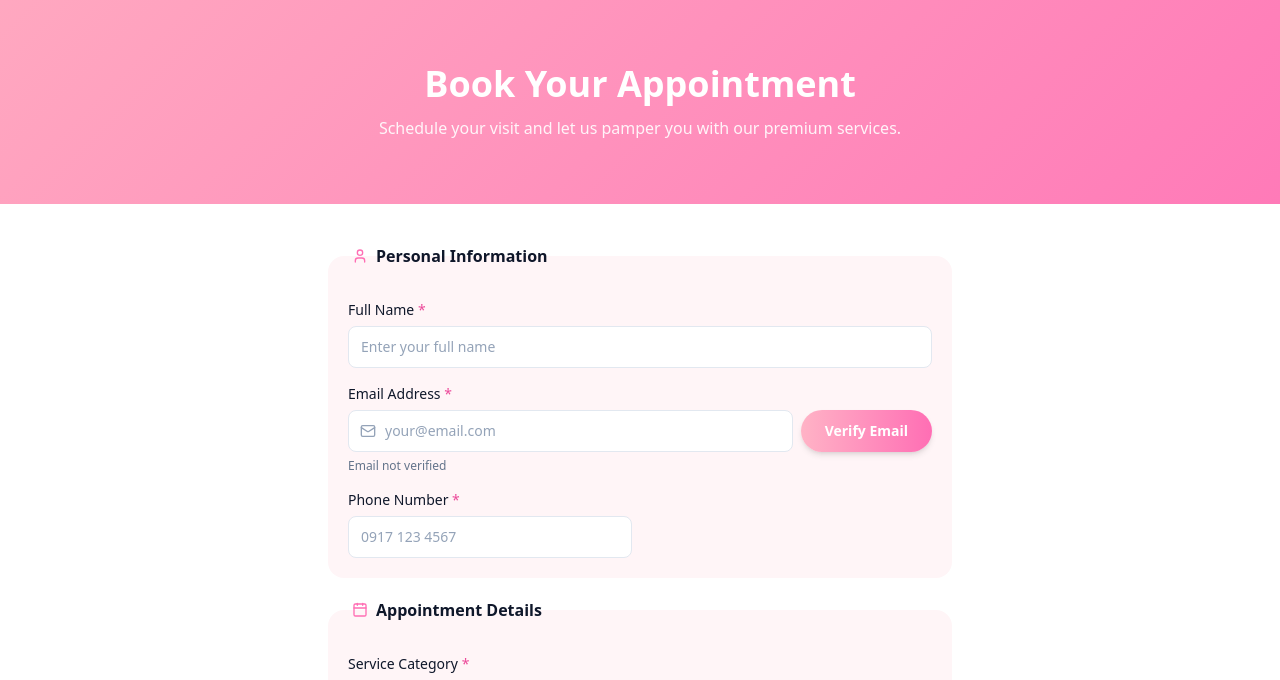
requesting and entering the code › the code box only accepts digits and at most six of them
Step 1. Type "jane@example.com" into the field labelled "Email Address *" → (570, 431), box [348, 410, 793, 452]
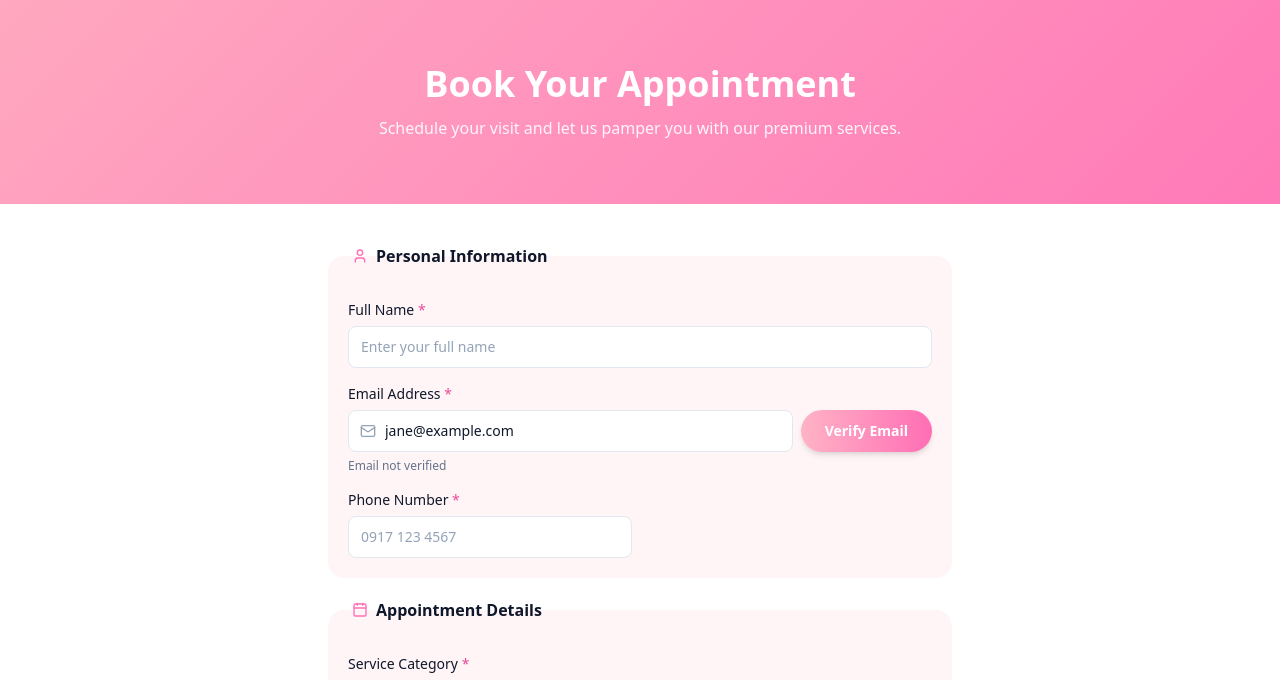
Step 2. Click the button "Verify Email" → (866, 431), box [801, 410, 932, 452]
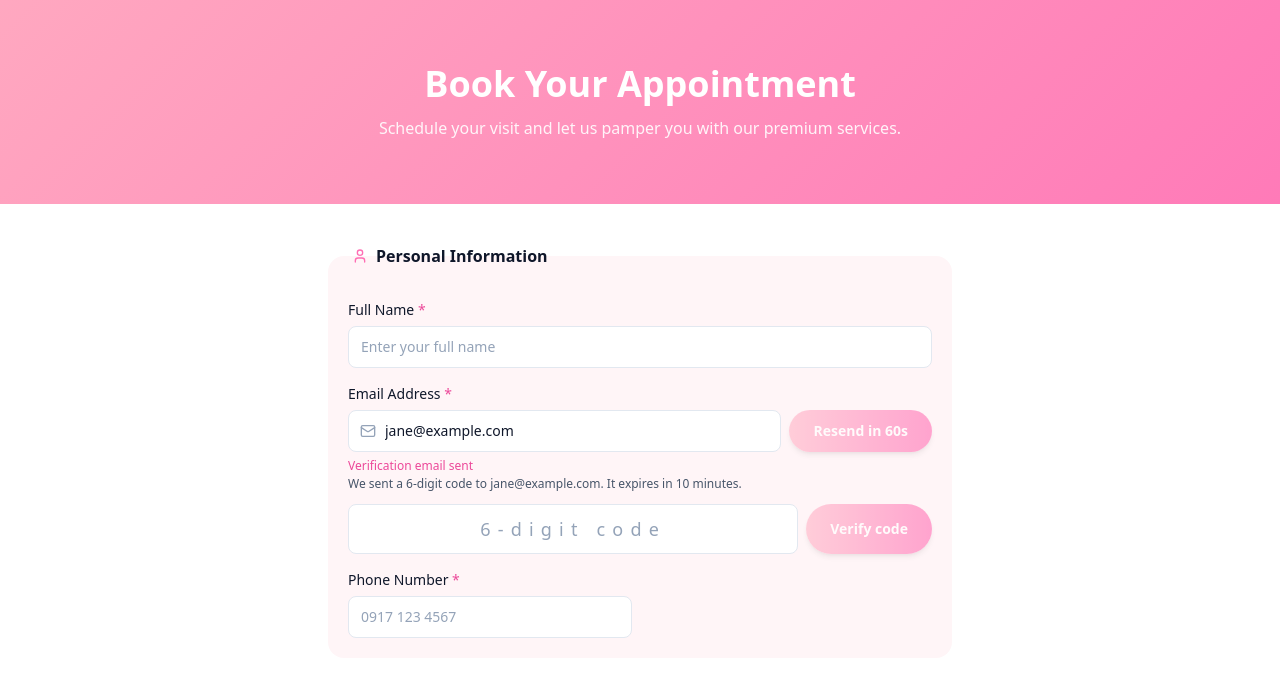
Step 3. Type "12ab34567890" into the field named "6-digit verification code" → (573, 529), box [348, 504, 798, 554]
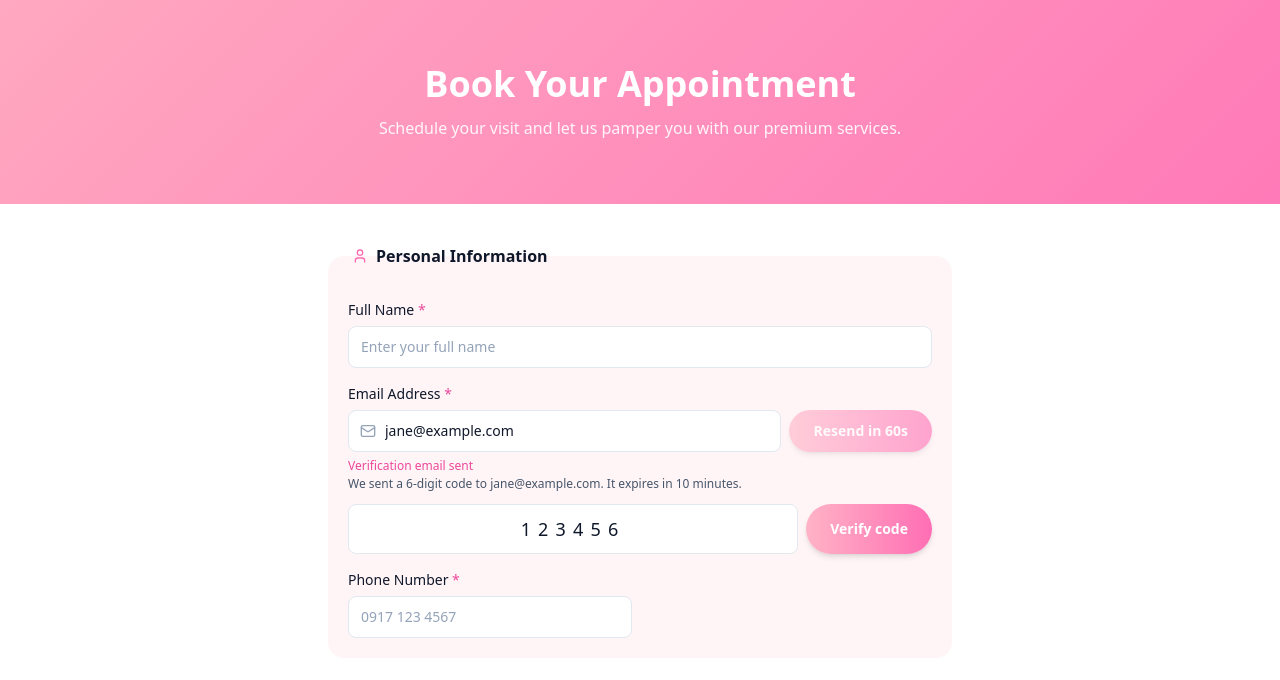
Now the field named "6-digit verification code" holds "123456"
Step 4. Replace the text in the field named "6-digit verification code" with "12" → (573, 529), box [348, 504, 798, 554]
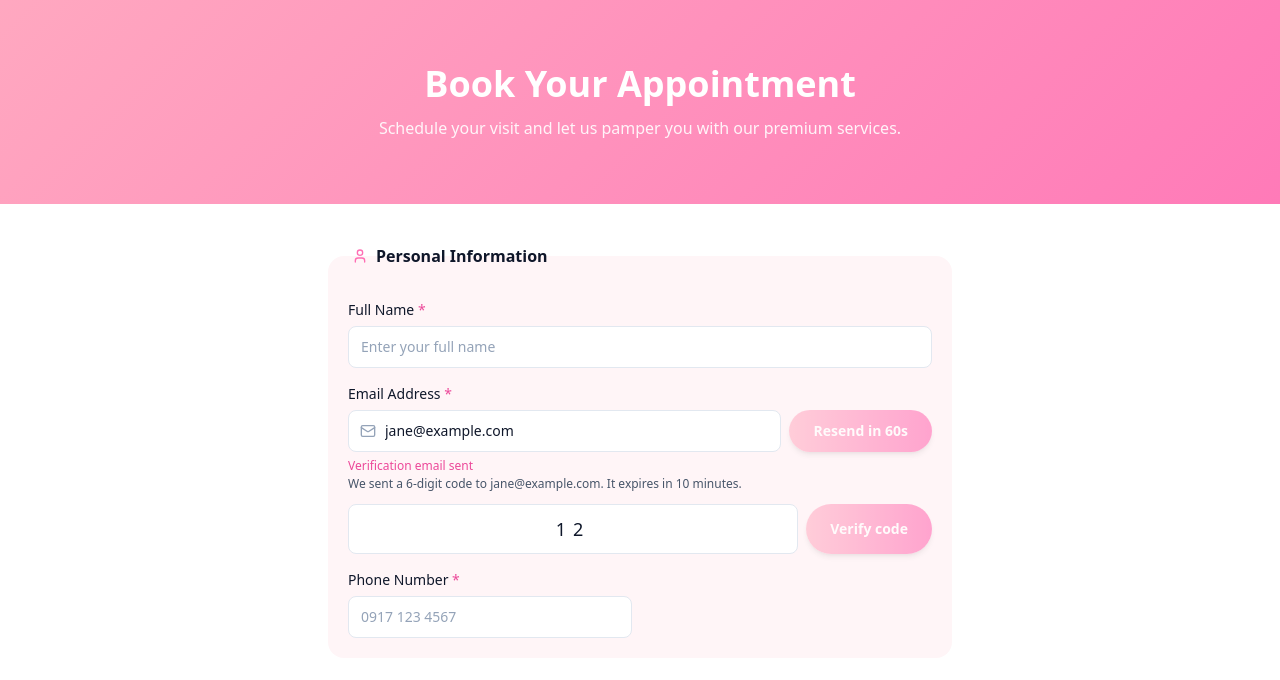
Now the button "Verify code" is disabled, box [806, 504, 932, 554]
